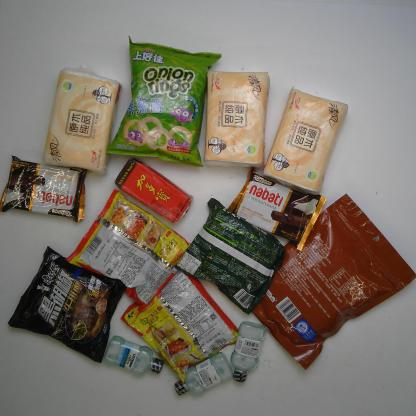Dessert: (225, 166, 327, 252), (0, 153, 89, 224)
Dried Food: (251, 192, 416, 373)
Drink: (113, 155, 194, 224)
Instant Noodles: (65, 188, 193, 312), (8, 245, 126, 364), (173, 196, 287, 316), (120, 269, 238, 384)
Personal Hygiene: (172, 351, 234, 397), (103, 334, 165, 378), (230, 320, 267, 384)
Puffed Food: (104, 34, 224, 168)
Tissue: (263, 84, 350, 197), (42, 66, 122, 176), (203, 69, 271, 169)
